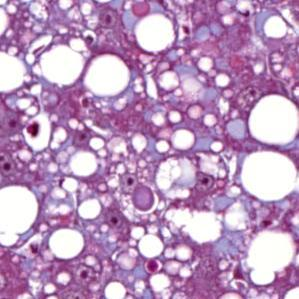steatosis: (250, 94, 299, 145), (84, 56, 135, 100), (131, 14, 178, 50), (44, 227, 88, 259)
